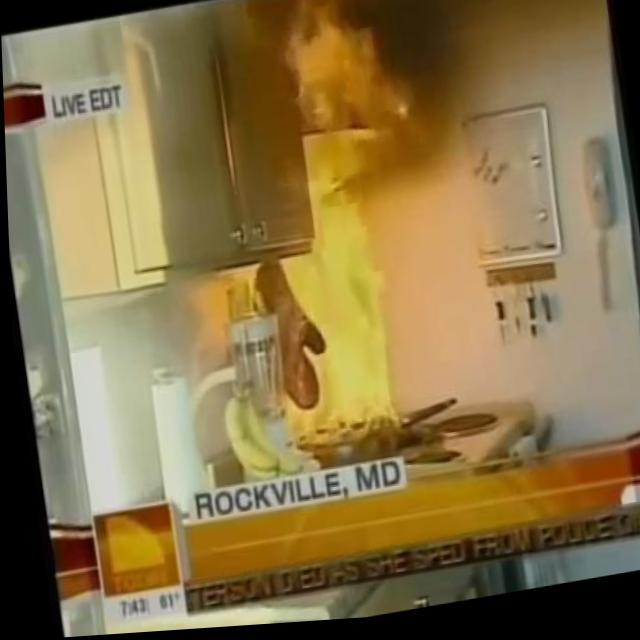fire: (252, 173, 400, 446)
